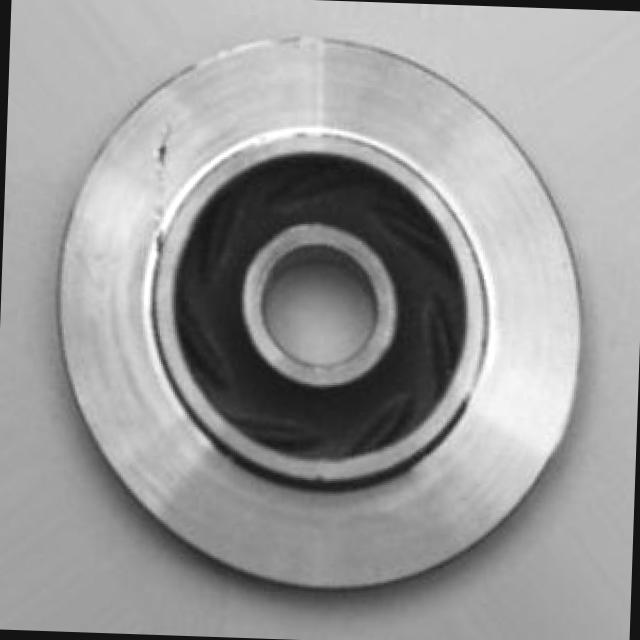Defect: (146, 136, 179, 172)
